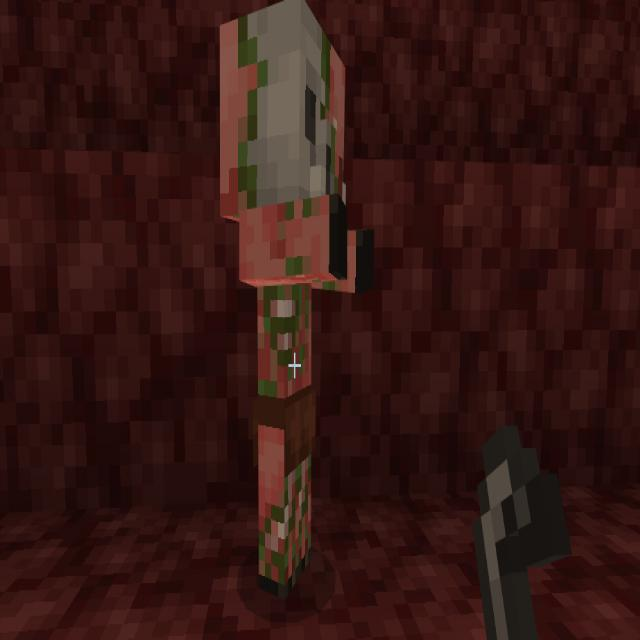Zombified Piglin: (217, 1, 374, 603)
